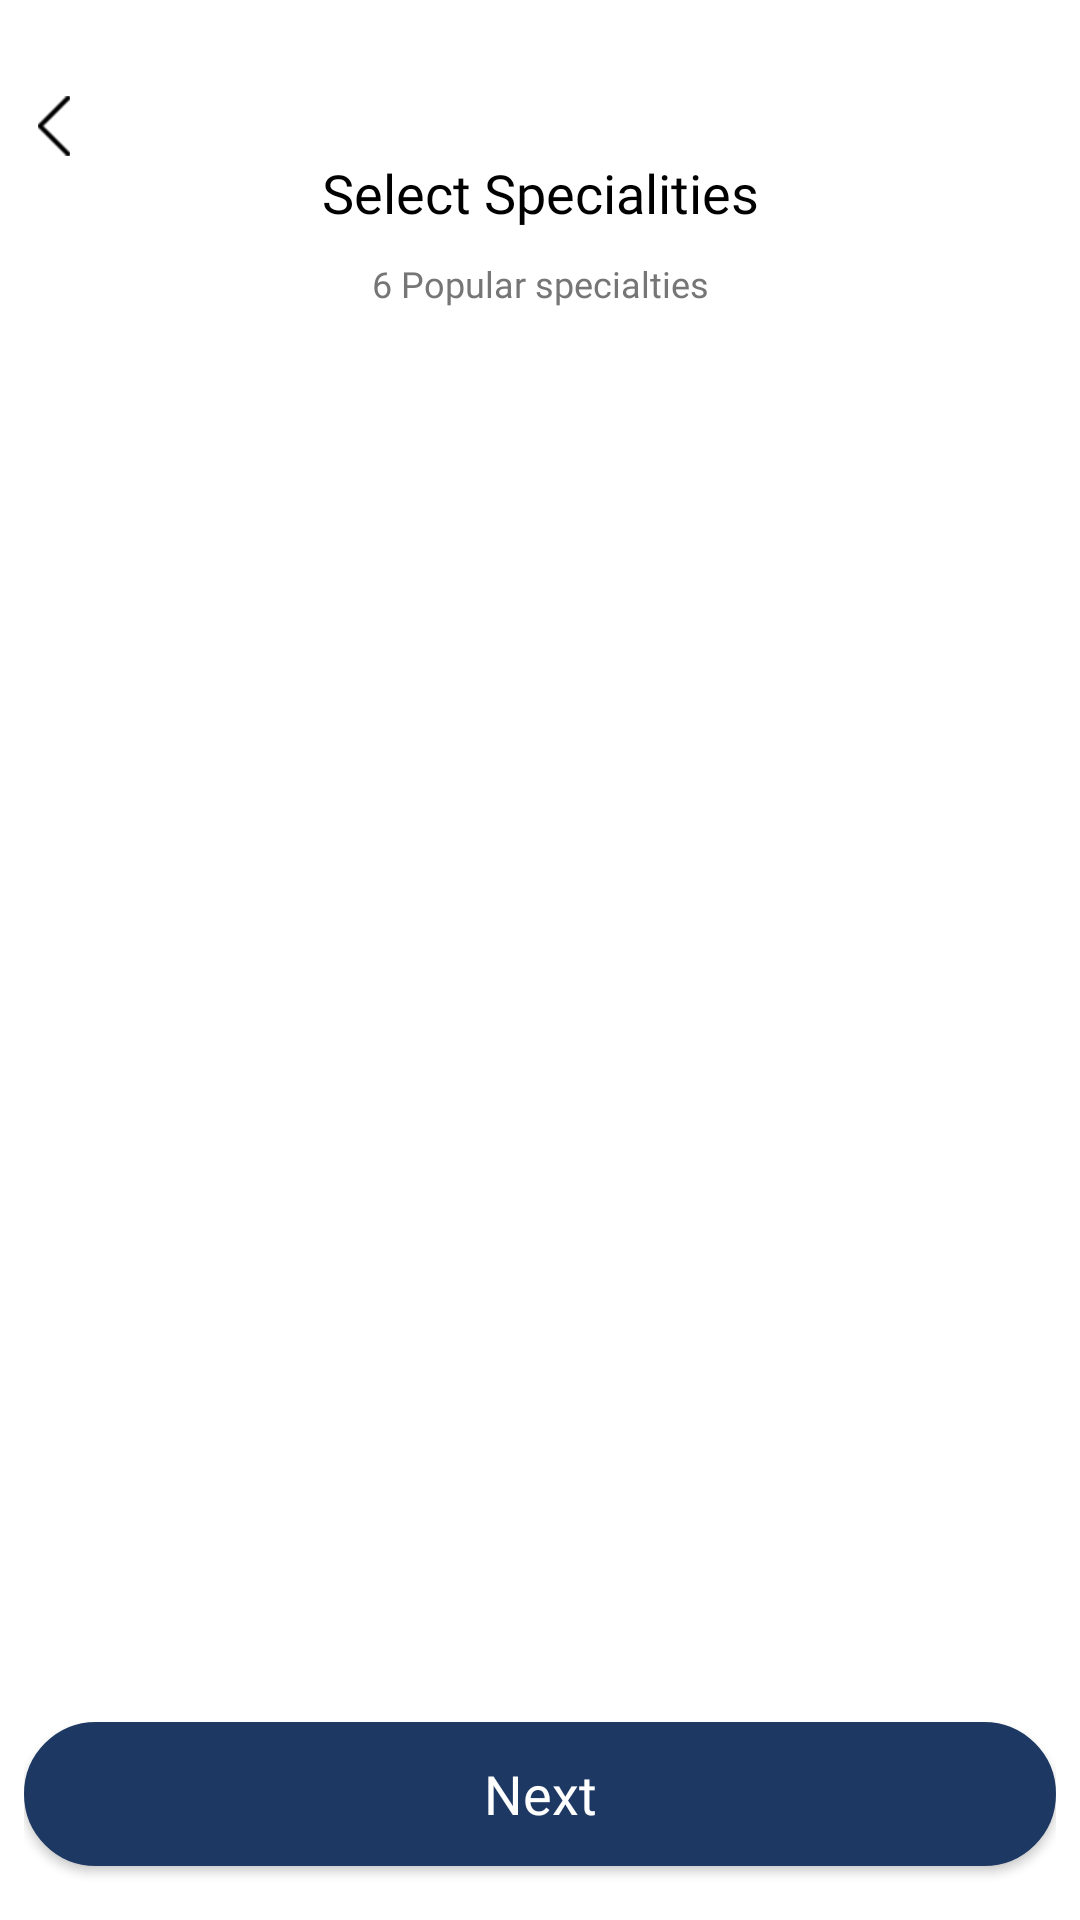

Named icons in this screenshot (1080w x 1920h) and their centers, [x,y]:
back arrow: [54,126]
